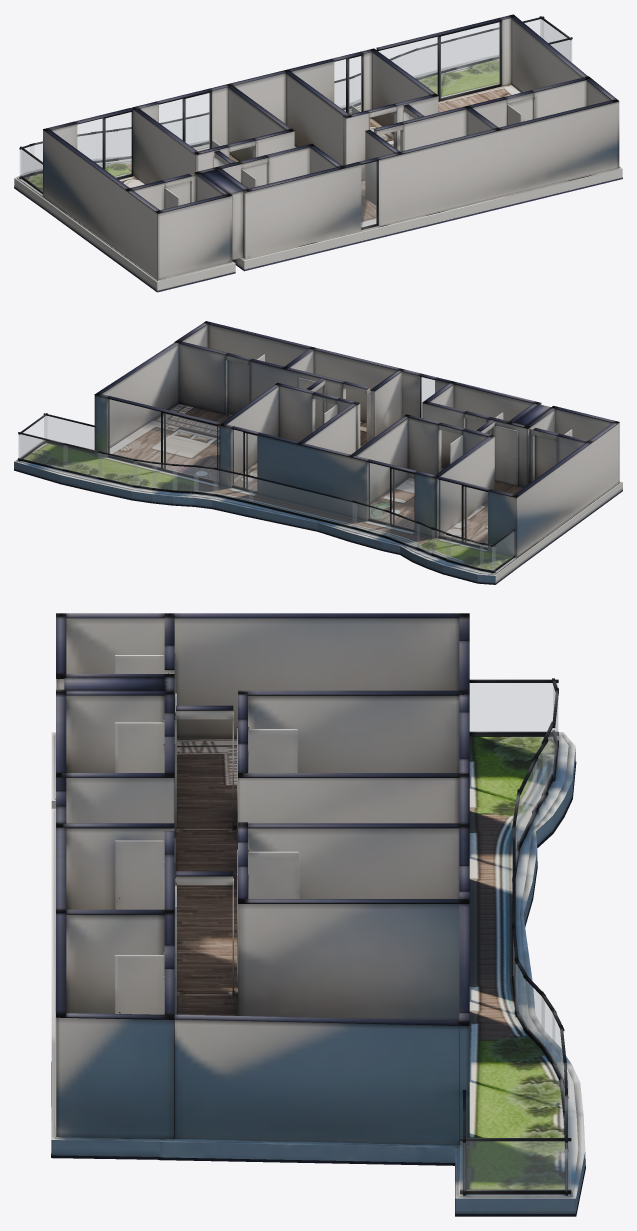
The picture shows the model from 3 angles, top to bottom: view 1: azimuth 30°, elevation 25°; view 2: azimuth 150°, elevation 25°; view 3: azimuth 270°, elevation 25°; orthographic projection. The views are drawn at different scales.
Visible parts, largest first — view 1: plan, glass3_m, glass0_m, glass1_m, glass2_m, glass4_m, railg5_m, railg7_m, railg4_m, railg3_m, railg15_m, railg12_m; view 2: plan, glass3_m, railg1_m, glass0_m, glass1_m, railg0_m, railg2_m, glass2_m, railg7_m, railg5_m, railg6_m, railg16_m (+11 smaller); view 3: plan, railg3_m, railg4_m, railg10_m, railg14_m.
Boxes of the visible parts, x1,y1,x2,y2 form: plan: (14,14,622,292); glass3_m: (378,22,499,98); glass0_m: (77,112,131,177); glass1_m: (159,93,209,151); glass2_m: (334,56,361,113); glass4_m: (361,161,376,227); railg5_m: (456,32,489,66); railg7_m: (417,42,451,77); railg4_m: (21,149,42,191); railg3_m: (540,19,571,61); railg15_m: (97,132,117,160); railg12_m: (163,118,195,145); plan: (14,321,622,584); glass3_m: (108,399,218,480); railg1_m: (249,477,356,527); glass0_m: (439,480,487,547); glass1_m: (368,463,414,529); railg0_m: (18,434,67,469); railg2_m: (44,416,94,449); glass2_m: (232,430,256,490); railg7_m: (98,453,137,485); railg5_m: (63,445,101,477); railg6_m: (214,470,252,501); railg16_m: (446,535,483,568); plan: (51,613,585,1216); railg3_m: (460,1141,570,1190); railg4_m: (470,683,558,731); railg10_m: (525,979,544,1046); railg14_m: (518,762,536,844).
Size of the model in its own units: 18.88 by 2.62 by 9.14.
Materials: 2 (1 with a texture image).
